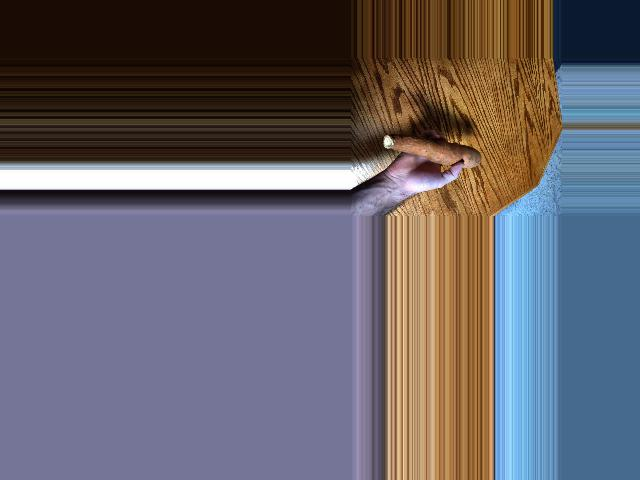sweet_potato: (379, 136, 486, 161)
